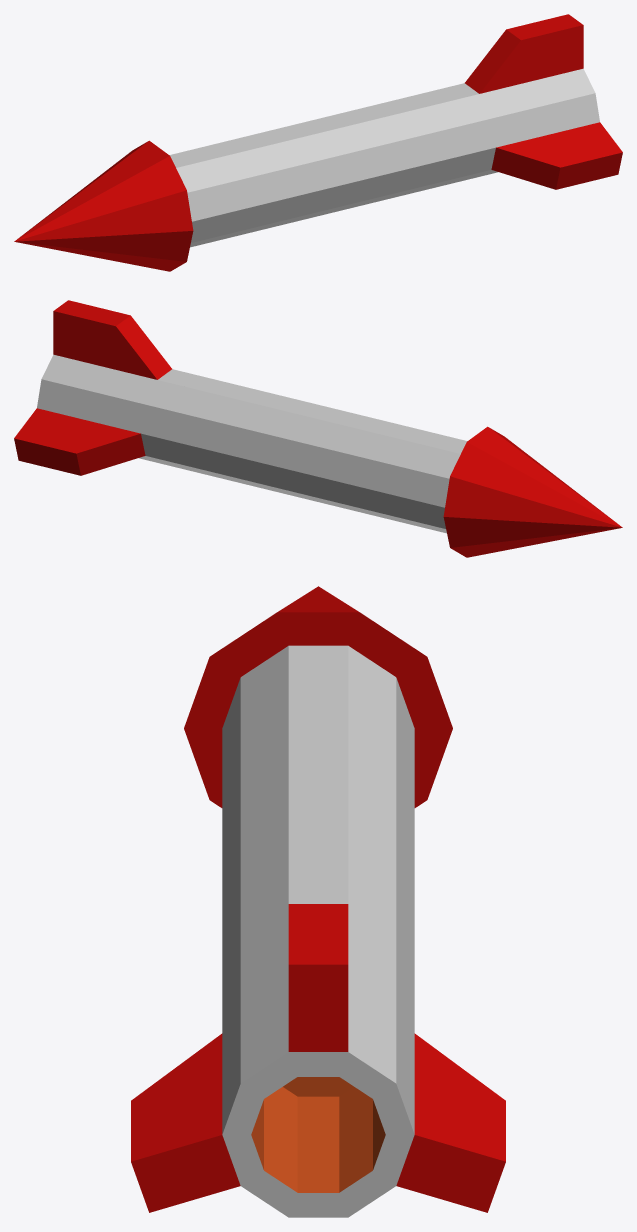
Rendered from rocket.obj.
3 renders of one model, top to bottom at view 1: azimuth 30°, elevation 25°; view 2: azimuth 150°, elevation 25°; view 3: azimuth 270°, elevation 25°, orthographic. The views are drawn at different scales.
Visible parts, largest first — view 1: Cylinder; view 2: Cylinder; view 3: Cylinder.
Boxes of the visible parts, box(x1,y1,x2,y2) form: Cylinder: box(14, 14, 622, 271); Cylinder: box(14, 300, 622, 557); Cylinder: box(131, 586, 505, 1217).
Bounding box in the file's own units: 2.7 × 0.6565 × 0.7804.
